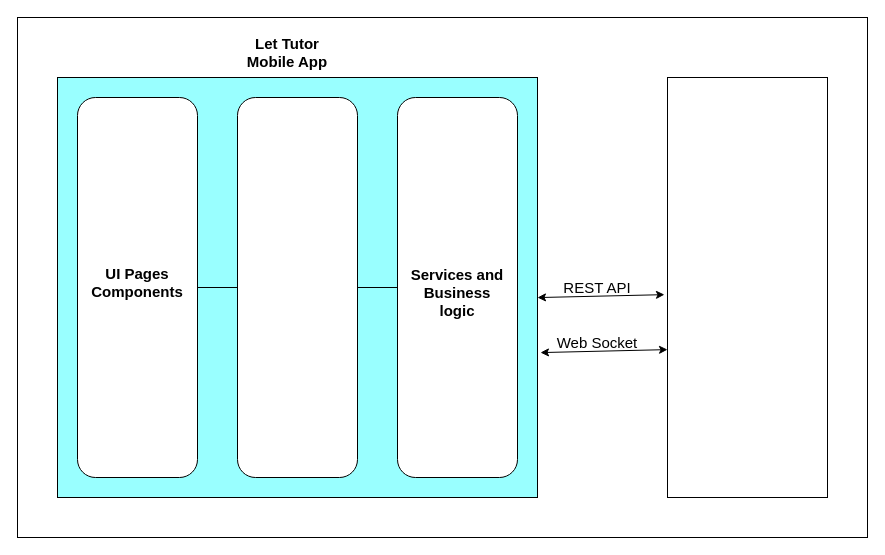
The diagram is 885 pixels wide and 555 high, and some of its shapes have lost their labels. The shapes that lost their labels are listed below. From the top down, each one's centre as x and y in pixels, then its label:
At pixel 297 287: "MobX Stores".
At pixel 747 287: "Back-end provided by others team".
